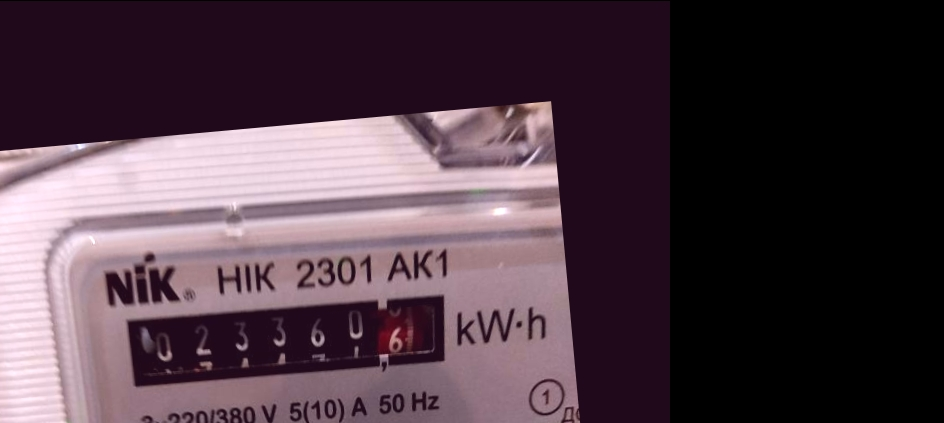0: (342, 306, 367, 343), (150, 328, 175, 364)
2: (190, 322, 214, 359)
3: (229, 319, 252, 355), (268, 314, 289, 350)
6: (305, 314, 328, 350), (384, 322, 405, 356)
screen: (111, 278, 470, 409)
